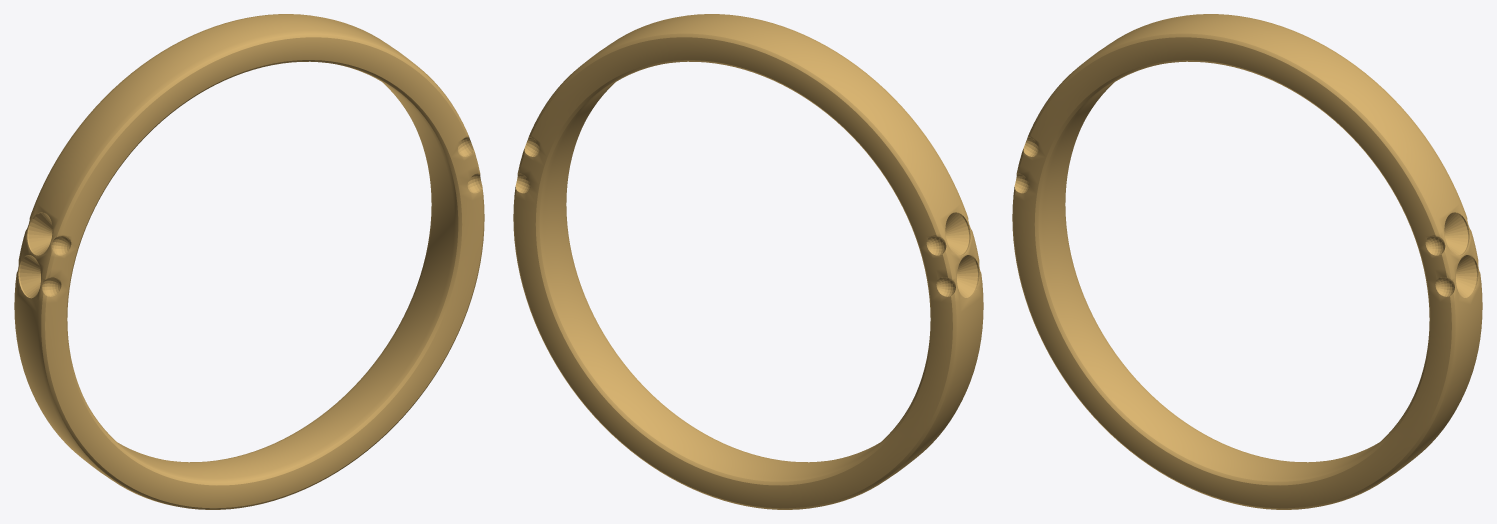
The model's file is flat-scalloped-u-cut-multi.glb.
3 views of the same model, side by side, from view 1: azimuth 30°, elevation 25°; view 2: azimuth 150°, elevation 25°; view 3: azimuth 330°, elevation 25° (orthographic).
Parts seen in each view (by area): view 1: Band; view 2: Band; view 3: Band.
Part boxes in pixels (box(x1,y1,x2,y2)): Band: box(14, 14, 484, 509); Band: box(513, 14, 983, 509); Band: box(1012, 14, 1482, 509).
Size of the model in its own units: 19.6 by 19.6 by 2.3.
